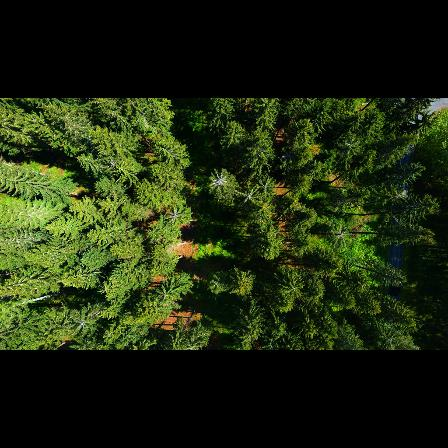Sick: (206, 166, 234, 200), (67, 308, 95, 338), (277, 276, 306, 300), (383, 183, 410, 206), (338, 134, 361, 157), (238, 184, 258, 208), (163, 206, 186, 225)
